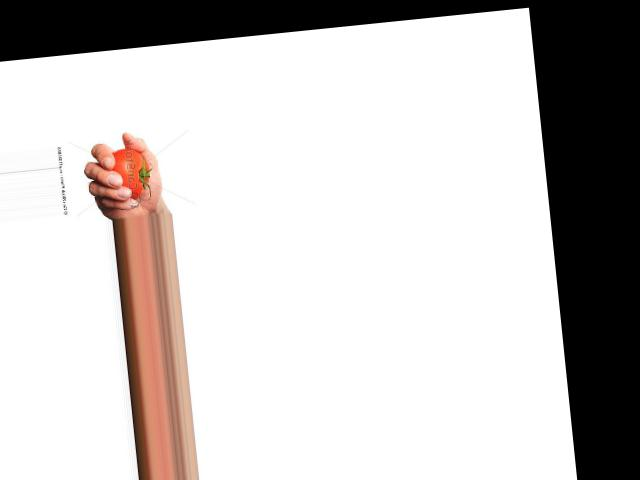tomato: (111, 146, 151, 200)
